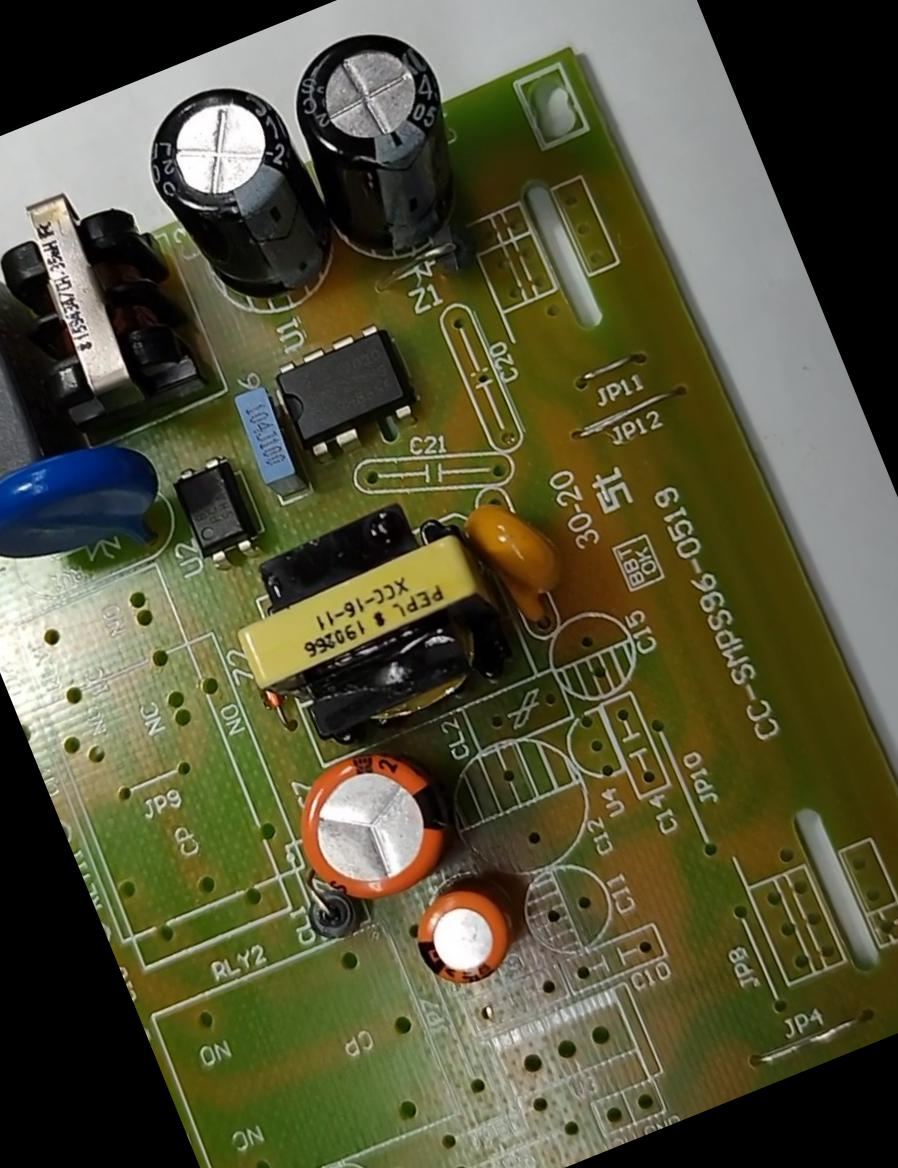Cap1: (248, 700, 497, 936)
Cap2: (381, 859, 542, 1024)
Transformer: (212, 456, 550, 796)
